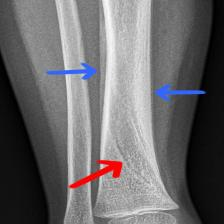spiral-fracture: (3, 0, 214, 224)
